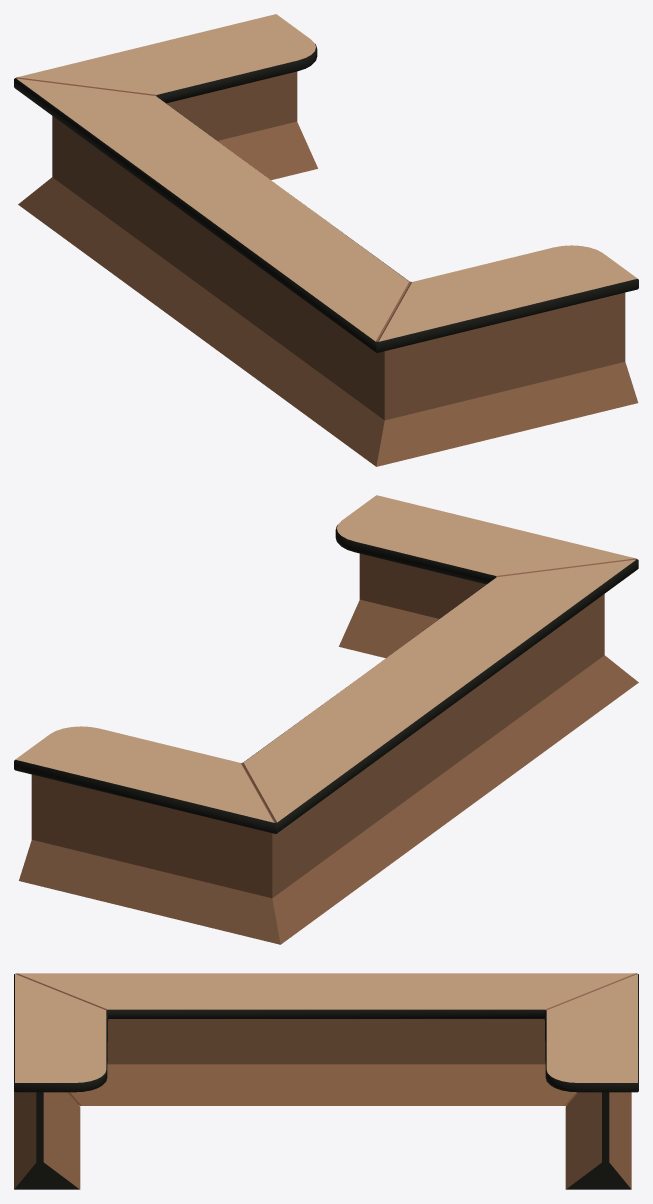
The model's file is OT_143_office_u_table.glb.
The picture shows the model from 3 angles, top to bottom: view 1: azimuth 30°, elevation 25°; view 2: azimuth 150°, elevation 25°; view 3: azimuth 270°, elevation 25°; orthographic projection. The views are drawn at different scales.
Parts seen in each view (by area): view 1: u_table; view 2: u_table; view 3: u_table.
Boxes of the visible parts, x1=… form: u_table: x1=14, y1=14, x2=638, y2=466; u_table: x1=14, y1=495, x2=638, y2=944; u_table: x1=14, y1=973, x2=638, y2=1189.
Bounding box in the file's own units: 2.14 × 0.9646 × 5.11.
